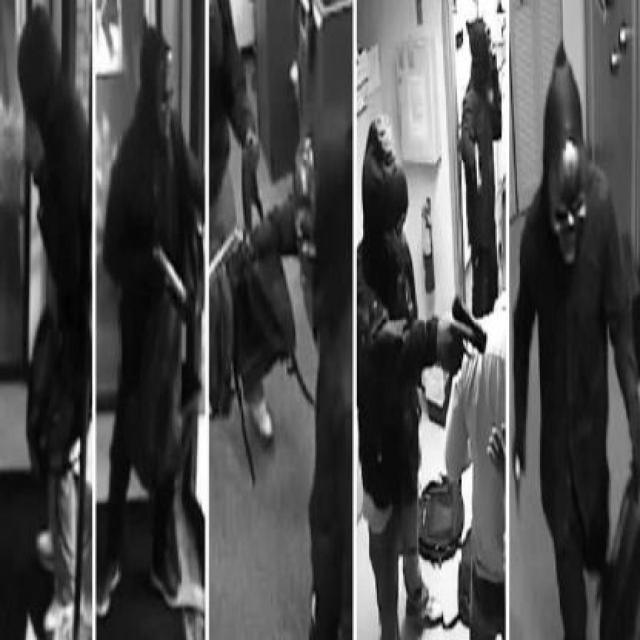weapon: (442, 298, 488, 372), (146, 247, 192, 318)
